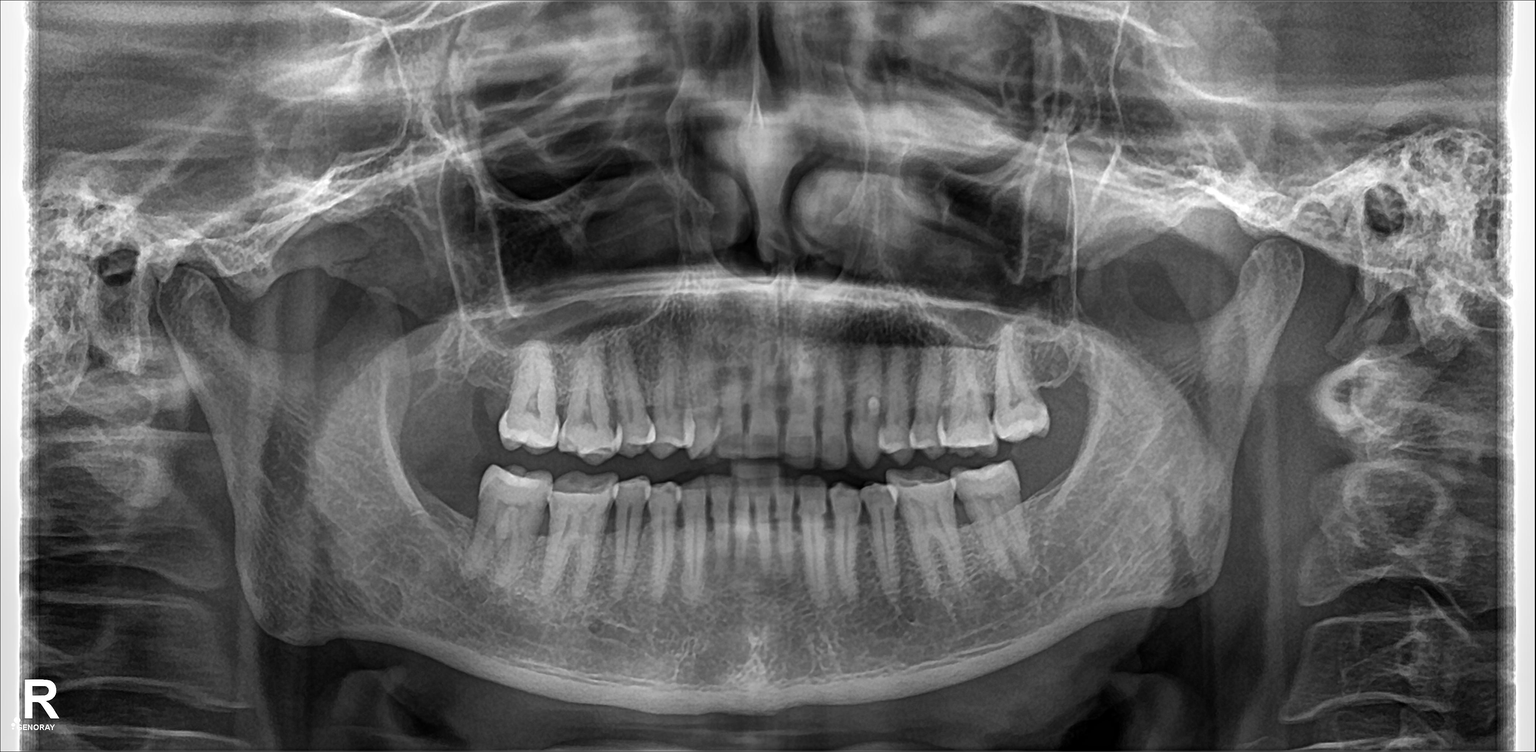Missing Tooth: (1037, 337, 1095, 428), (430, 456, 478, 548), (462, 352, 505, 431), (1019, 454, 1059, 538), (421, 346, 456, 435), (402, 454, 431, 538)
